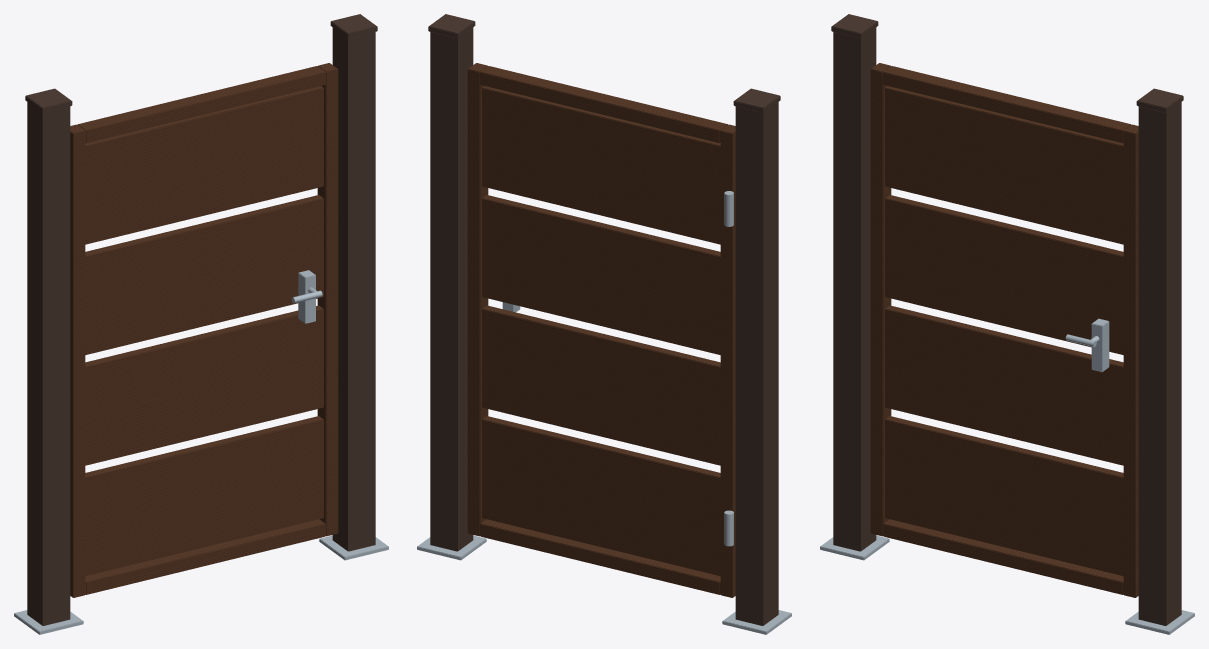
The model's file is 02-pesacka.glb.
The picture shows the model from 3 angles, left to right: view 1: azimuth 30°, elevation 25°; view 2: azimuth 150°, elevation 25°; view 3: azimuth 330°, elevation 25°; orthographic projection.
Parts seen in each view (by area): view 1: Ispuna_horizontalna.065, Ispuna_horizontalna.066, Ispuna_horizontalna.068, Ispuna_horizontalna.067, Stub_levi.004, Stub_desni.004, Ram_bocni.010, Ram_bocni.011, Ram_gornji.005, Ram_donji.005, Okov_brava.004, Kapa_stuba.008 (+3 smaller); view 2: Ispuna_horizontalna.065, Ispuna_horizontalna.066, Ispuna_horizontalna.067, Ispuna_horizontalna.068, Stub_levi.004, Stub_desni.004, Ram_bocni.011, Ram_bocni.010, Ram_gornji.005, Ram_donji.005, Kapa_stuba.008, Kapa_stuba.009 (+2 smaller); view 3: Ispuna_horizontalna.065, Ispuna_horizontalna.066, Ispuna_horizontalna.068, Ispuna_horizontalna.067, Stub_desni.004, Stub_levi.004, Ram_bocni.011, Ram_bocni.010, Ram_gornji.005, Ram_donji.005, Okov_brava.004, Kapa_stuba.009 (+3 smaller).
Boxes of the visible parts, left/top/right/bottom form: Ispuna_horizontalna.065: left=85, top=416, right=323, bottom=576; Ispuna_horizontalna.066: left=85, top=305, right=323, bottom=465; Ispuna_horizontalna.068: left=85, top=86, right=323, bottom=244; Ispuna_horizontalna.067: left=85, top=195, right=323, bottom=354; Stub_levi.004: left=27, top=102, right=70, bottom=625; Stub_desni.004: left=332, top=27, right=375, bottom=551; Ram_bocni.010: left=70, top=124, right=85, bottom=597; Ram_bocni.011: left=317, top=63, right=338, bottom=536; Ram_gornji.005: left=77, top=66, right=325, bottom=143; Ram_donji.005: left=85, top=519, right=325, bottom=594; Okov_brava.004: left=298, top=270, right=315, bottom=323; Kapa_stuba.008: left=25, top=88, right=72, bottom=112; Ispuna_horizontalna.065: left=482, top=416, right=720, bottom=576; Ispuna_horizontalna.066: left=482, top=305, right=720, bottom=465; Ispuna_horizontalna.067: left=482, top=195, right=720, bottom=354; Ispuna_horizontalna.068: left=482, top=86, right=720, bottom=244; Stub_levi.004: left=735, top=102, right=778, bottom=625; Stub_desni.004: left=430, top=27, right=473, bottom=551; Ram_bocni.011: left=467, top=63, right=488, bottom=536; Ram_bocni.010: left=720, top=124, right=735, bottom=597; Ram_gornji.005: left=480, top=66, right=728, bottom=143; Ram_donji.005: left=480, top=519, right=720, bottom=594; Kapa_stuba.008: left=733, top=88, right=780, bottom=112; Kapa_stuba.009: left=428, top=14, right=475, bottom=38; Ispuna_horizontalna.065: left=885, top=416, right=1123, bottom=576; Ispuna_horizontalna.066: left=885, top=305, right=1123, bottom=465; Ispuna_horizontalna.068: left=885, top=86, right=1123, bottom=244; Ispuna_horizontalna.067: left=885, top=195, right=1123, bottom=354; Stub_desni.004: left=1138, top=102, right=1181, bottom=625; Stub_levi.004: left=833, top=27, right=876, bottom=551; Ram_bocni.011: left=1123, top=124, right=1138, bottom=597; Ram_bocni.010: left=870, top=63, right=891, bottom=536; Ram_gornji.005: left=883, top=66, right=1131, bottom=143; Ram_donji.005: left=883, top=519, right=1123, bottom=594; Okov_brava.004: left=1091, top=318, right=1109, bottom=372; Kapa_stuba.009: left=1136, top=88, right=1183, bottom=112.
Bounding box in the file's own units: 1.26 × 1.8 × 0.19.
3 materials, 1 textured.
